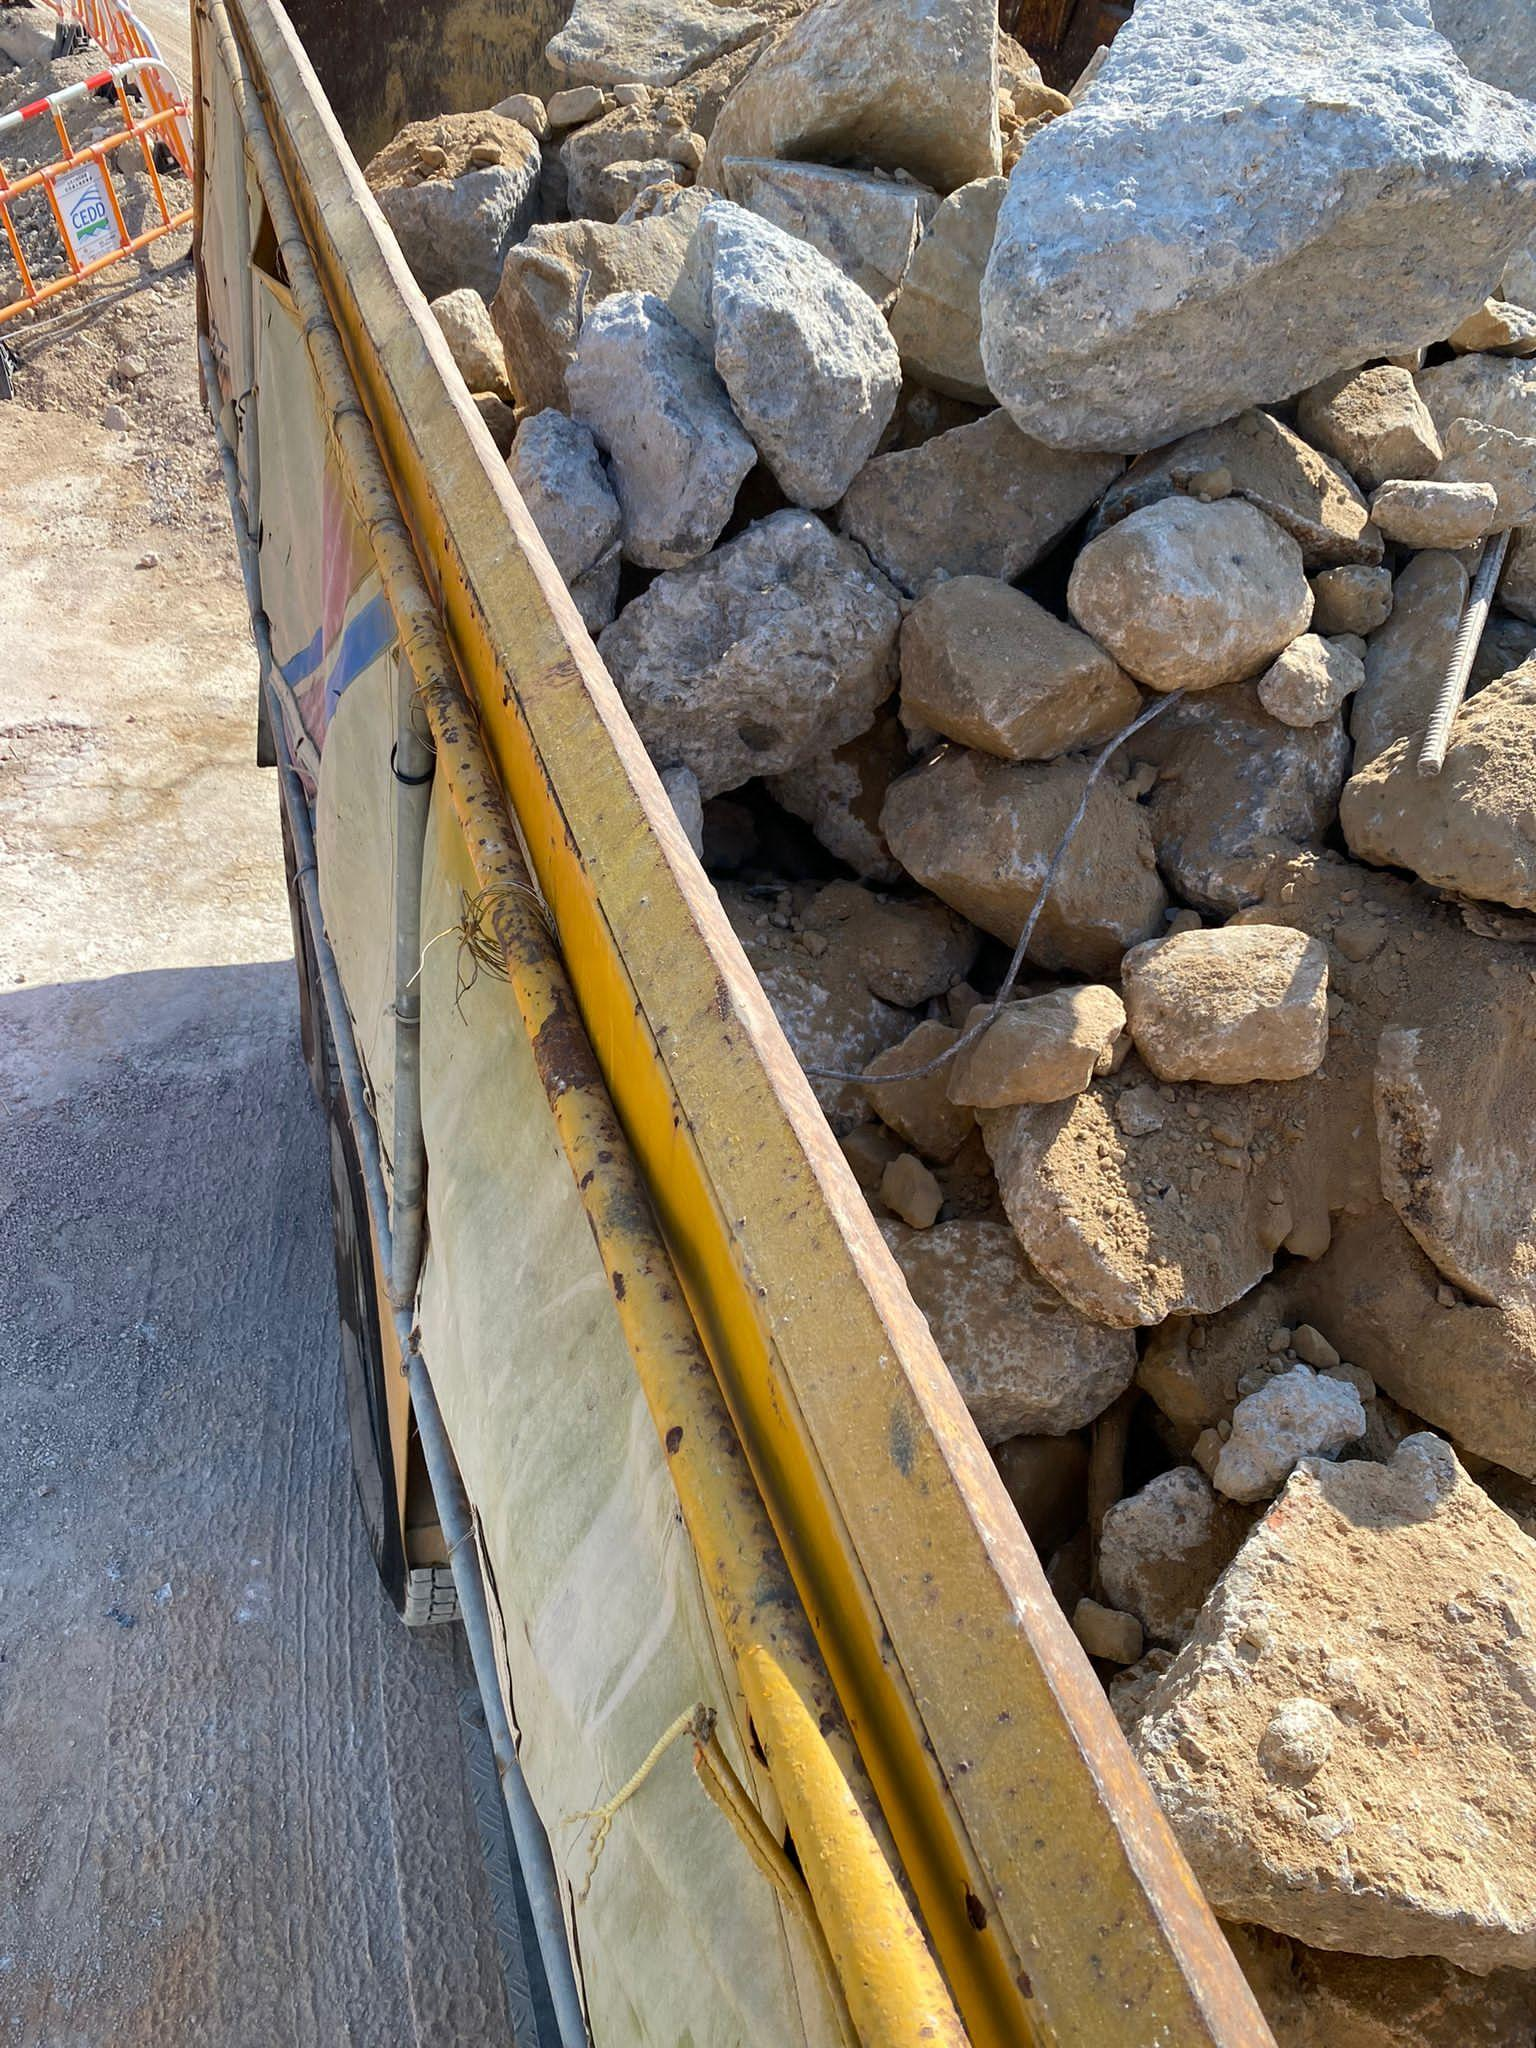stone: (349, 0, 1534, 1979), (975, 0, 1534, 456), (1117, 1429, 1534, 1975), (687, 197, 904, 510), (1065, 490, 1315, 692), (894, 572, 1141, 763), (1118, 921, 1329, 1085)
